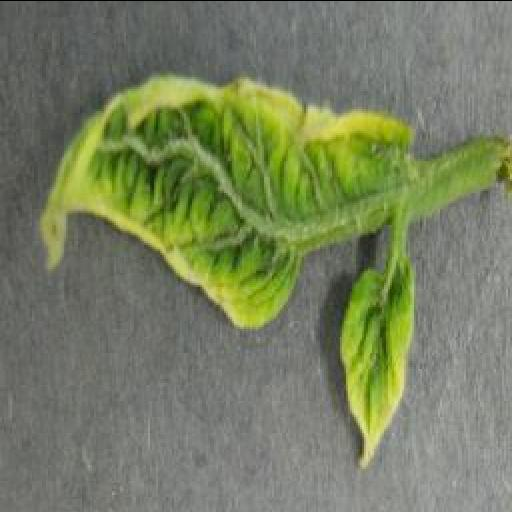disease_tomato: (37, 72, 415, 328), (337, 268, 419, 470)
